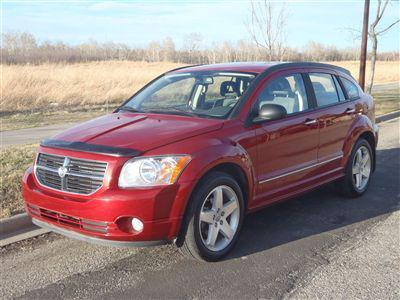Car: (15, 48, 385, 269)
